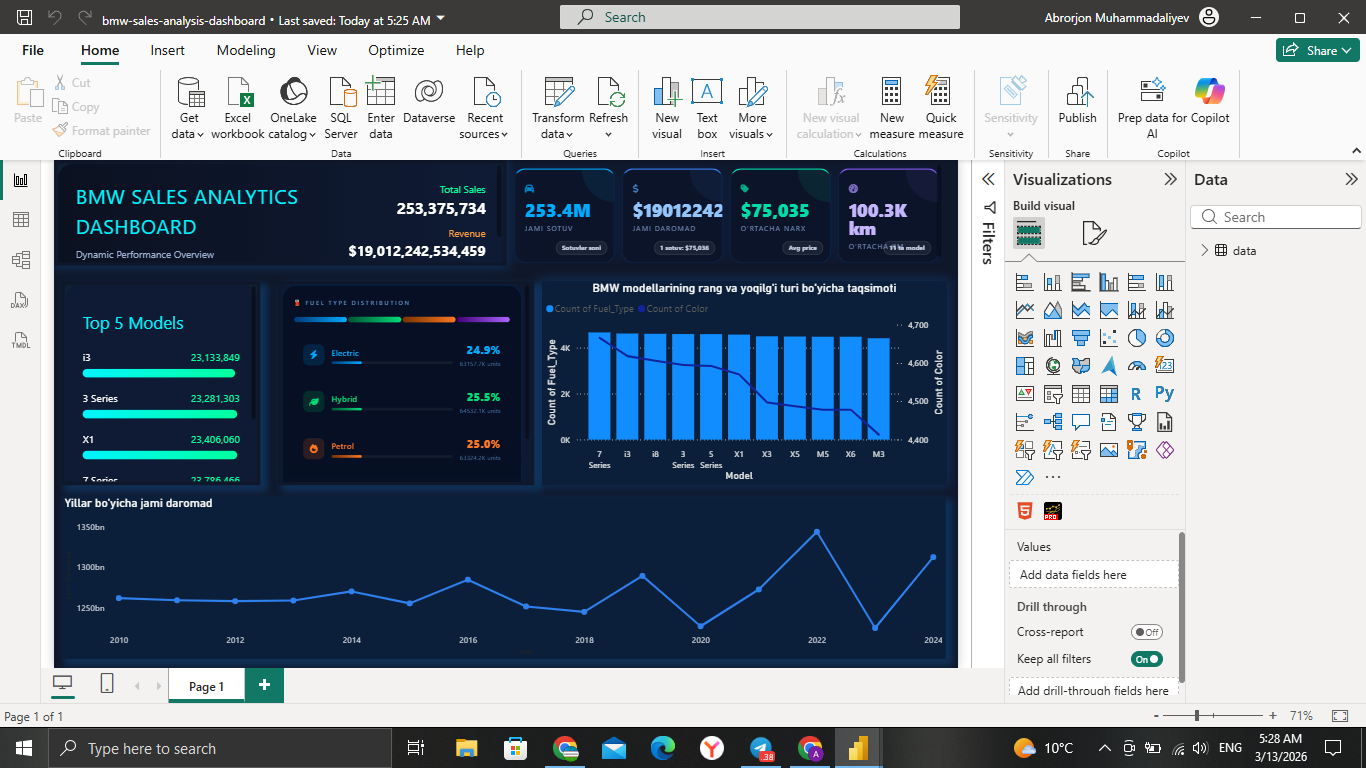

What the dashboard file says about the page in this screenshot:
{"tool":"powerbi","page":{"name":"Page 1","canvas":[1280,720],"ordinal":0},"visuals":[{"type":"htmlContent443BE3AD55E043BF878BED274D3A6855","fields":{"content":["data.HTML_KPI_Cards_UZ"]},"box":[640.6,0,623.6,150.2],"z":0},{"type":"htmlContent443BE3AD55E043BF878BED274D3A6855","fields":{"content":["data.HTML_Fuel_Card"]},"box":[317.5,171.5,362.8,289.1],"z":1000},{"type":"htmlContent443BE3AD55E043BF878BED274D3A6855","fields":{"content":["data.Top 5 Model HTML"]},"box":[9.9,171.5,283.5,289.1],"z":2000},{"type":"htmlContent443BE3AD55E043BF878BED274D3A6855","fields":{"content":["data.Premium Header HTML"]},"box":[0,0,640.6,150.2],"z":3000},{"type":"lineChart","title":"Yillar bo''yicha jami daromad","fields":{"Category":["data.Year"],"Y":["data.Jami Daromad"]},"box":[9.9,476.2,1254.3,231],"z":4000},{"type":"lineStackedColumnComboChart","title":"BMW modellarining rang va yoqilg''i turi bo''yicha taqsimoti","fields":{"Category":["data.Model"],"Y":["CountNonNull(data.Fuel_Type)"],"Y2":["CountNonNull(data.Color)"]},"box":[691.7,171.5,574,289.1],"z":5000}]}

Visuals, with their boxes on the page's 1280x720 design canvas (x1, y1, x2, y2). These are canvas units, not pixel positions in the 1366x768 screenshot, which may show the page scaled, cropped or inside an application window:
htmlContent443BE3AD55E043BF878BED274D3A6855 - data.HTML_KPI_Cards_UZ: {"x1": 641, "y1": 0, "x2": 1264, "y2": 150}
htmlContent443BE3AD55E043BF878BED274D3A6855 - data.HTML_Fuel_Card: {"x1": 318, "y1": 172, "x2": 680, "y2": 461}
htmlContent443BE3AD55E043BF878BED274D3A6855 - data.Top 5 Model HTML: {"x1": 10, "y1": 172, "x2": 293, "y2": 461}
htmlContent443BE3AD55E043BF878BED274D3A6855 - data.Premium Header HTML: {"x1": 0, "y1": 0, "x2": 641, "y2": 150}
"Yillar bo''yicha jami daromad" lineChart: {"x1": 10, "y1": 476, "x2": 1264, "y2": 707}
"BMW modellarining rang va yoqilg''i turi bo''yicha taqsimoti" lineStackedColumnComboChart: {"x1": 692, "y1": 172, "x2": 1266, "y2": 461}
